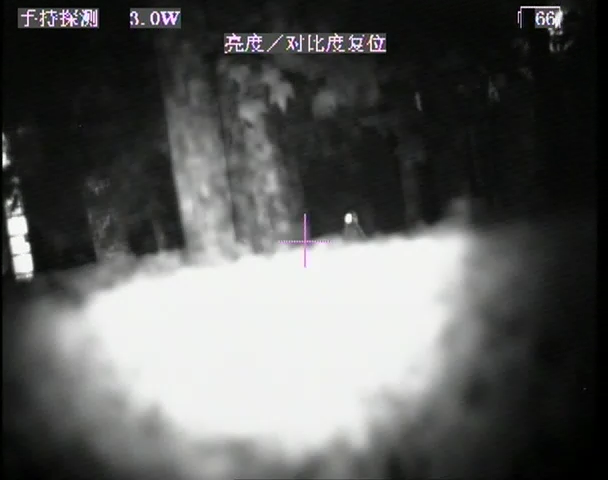my: (342, 211, 356, 226)
